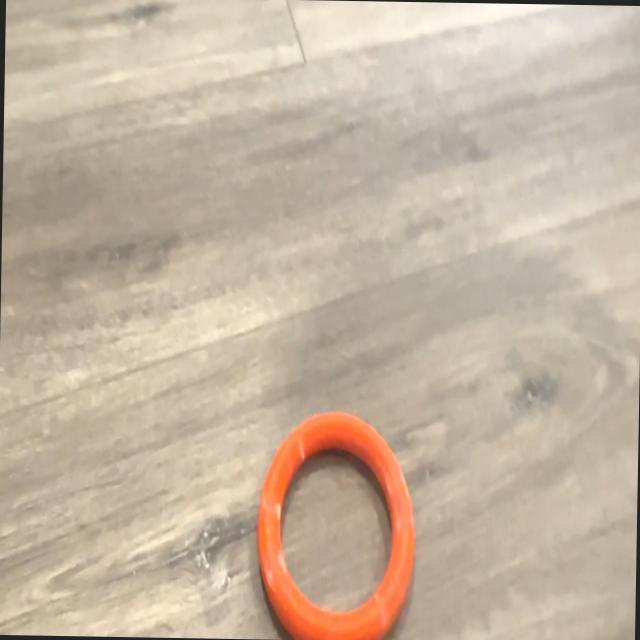note: (257, 409, 416, 640)
